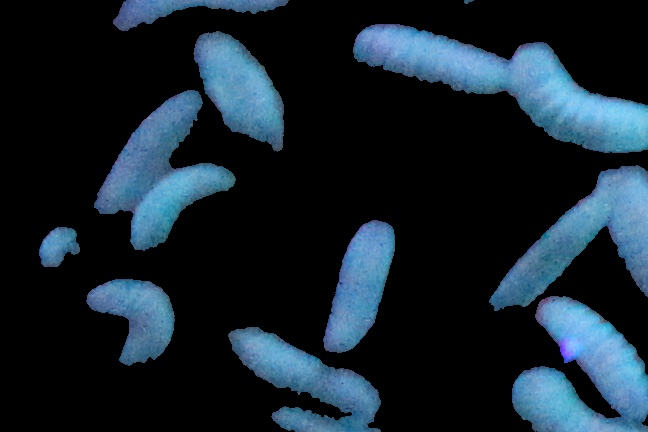larvae: (500, 40, 648, 152), (350, 25, 509, 120), (539, 296, 647, 422), (223, 328, 374, 416), (492, 195, 606, 310), (95, 86, 193, 215), (194, 29, 286, 155), (130, 165, 244, 253), (320, 220, 396, 351), (83, 278, 177, 367), (509, 365, 630, 432), (605, 165, 648, 304), (111, 1, 287, 32)
